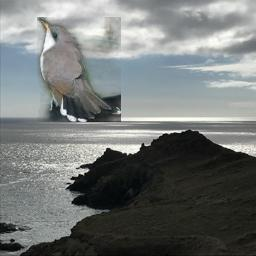Cuckoo: (37, 17, 121, 122)
